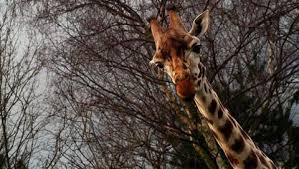Jirafa: (138, 8, 281, 151)
